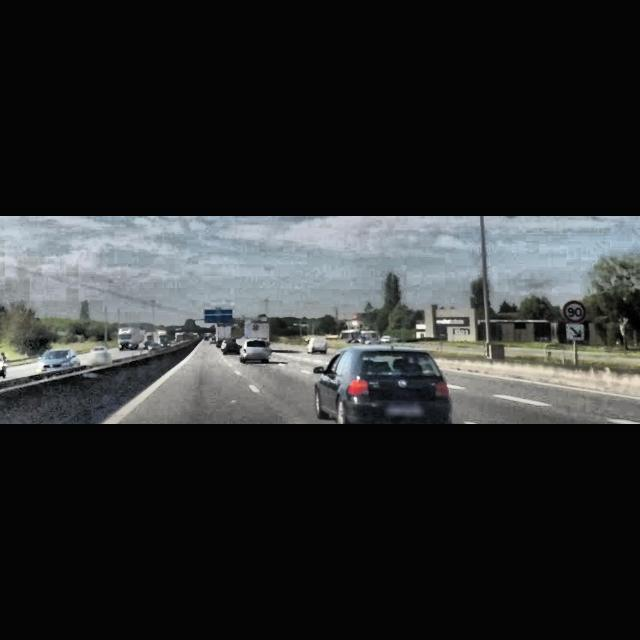speed_90: (564, 301, 586, 323)
